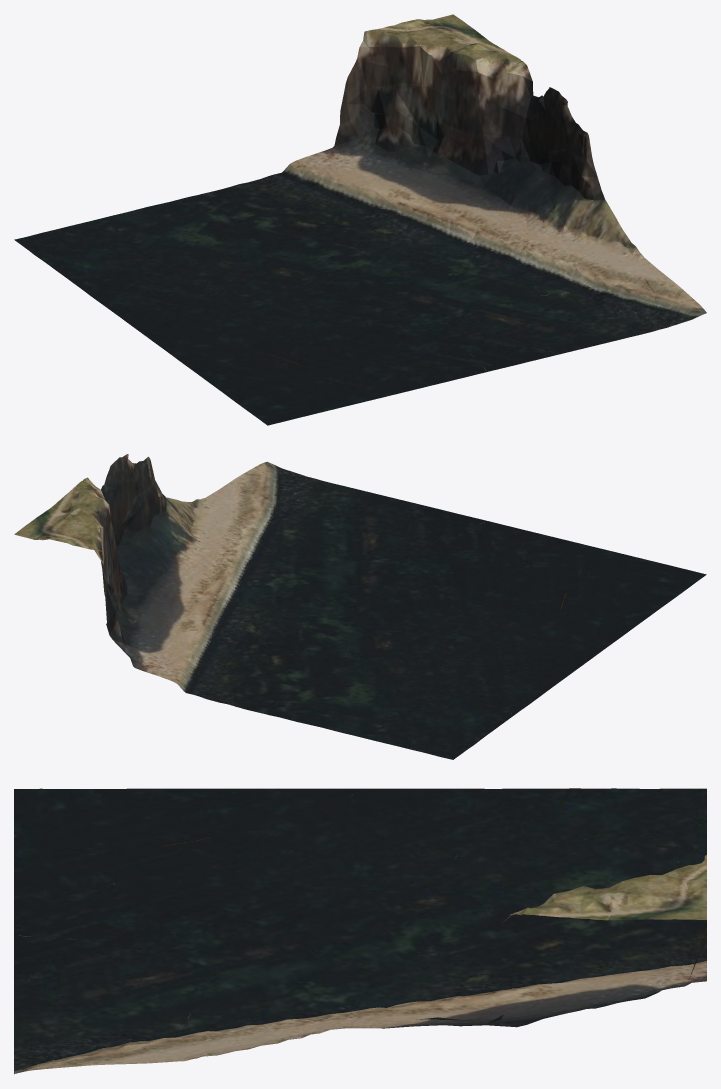
3 renders of one model, top to bottom at view 1: azimuth 30°, elevation 25°; view 2: azimuth 150°, elevation 25°; view 3: azimuth 270°, elevation 25°, orthographic. The views are drawn at different scales.
Size of the model in its own units: 209 by 56.25 by 209.
3 materials, 3 textured.
